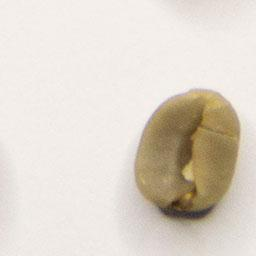premium: (132, 84, 243, 216)
